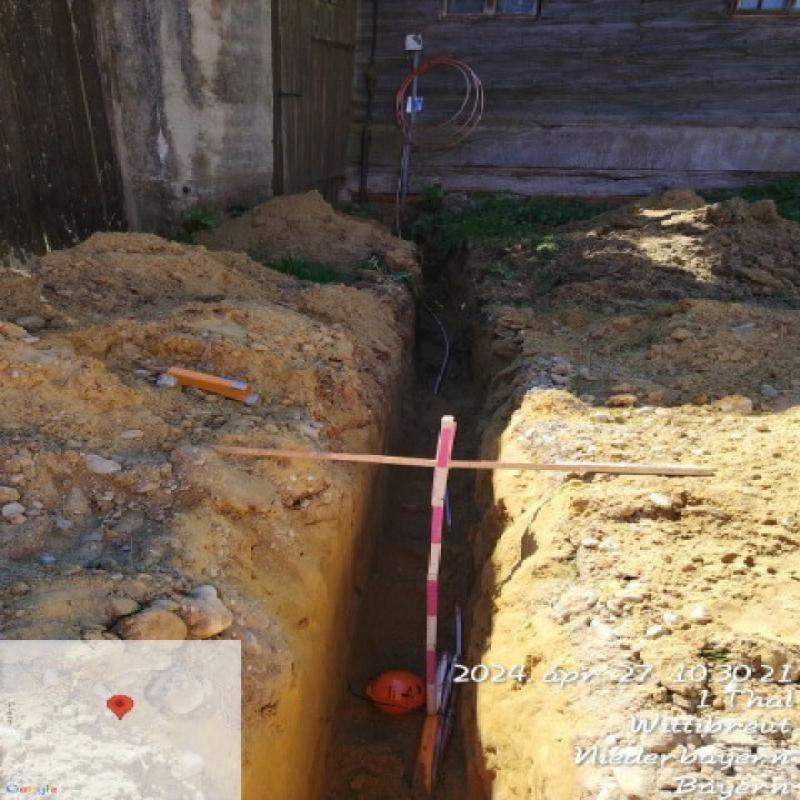Kugelmarker: (368, 671, 426, 715)
Orang-Speednetrohrchen: (415, 655, 464, 794)
